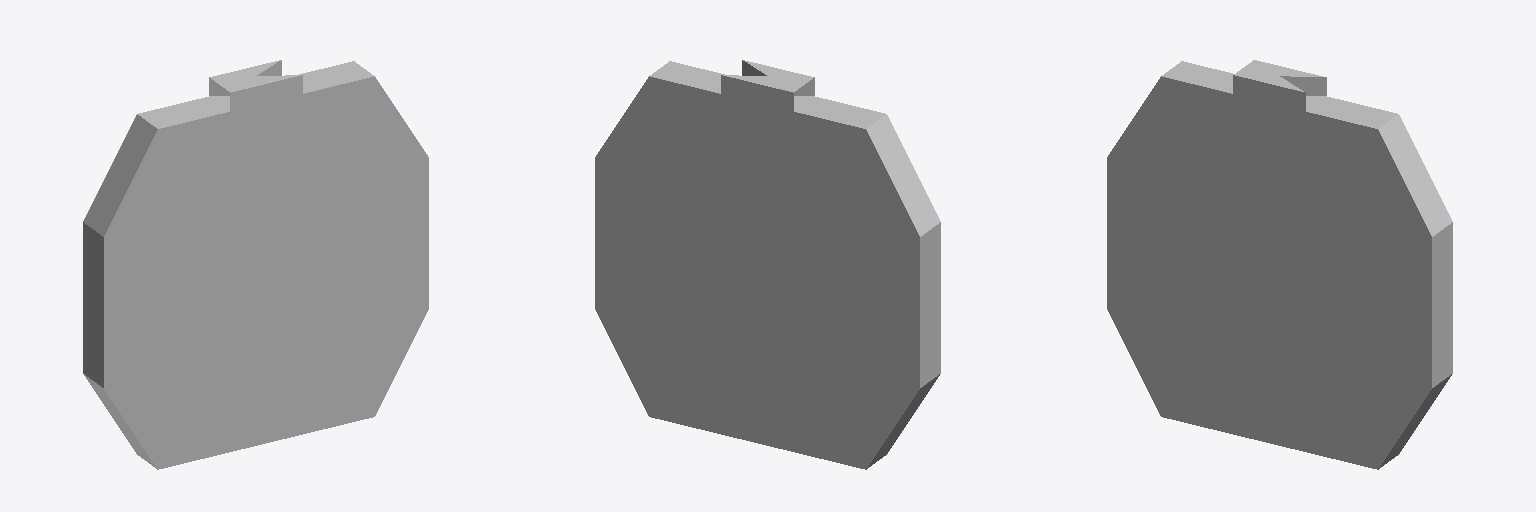
File: tshirt.obj
3 renders of one model, left to right at view 1: azimuth 30°, elevation 25°; view 2: azimuth 150°, elevation 25°; view 3: azimuth 330°, elevation 25°, orthographic.
Bounding box in the file's own units: 3.6 × 3.8 × 0.4.